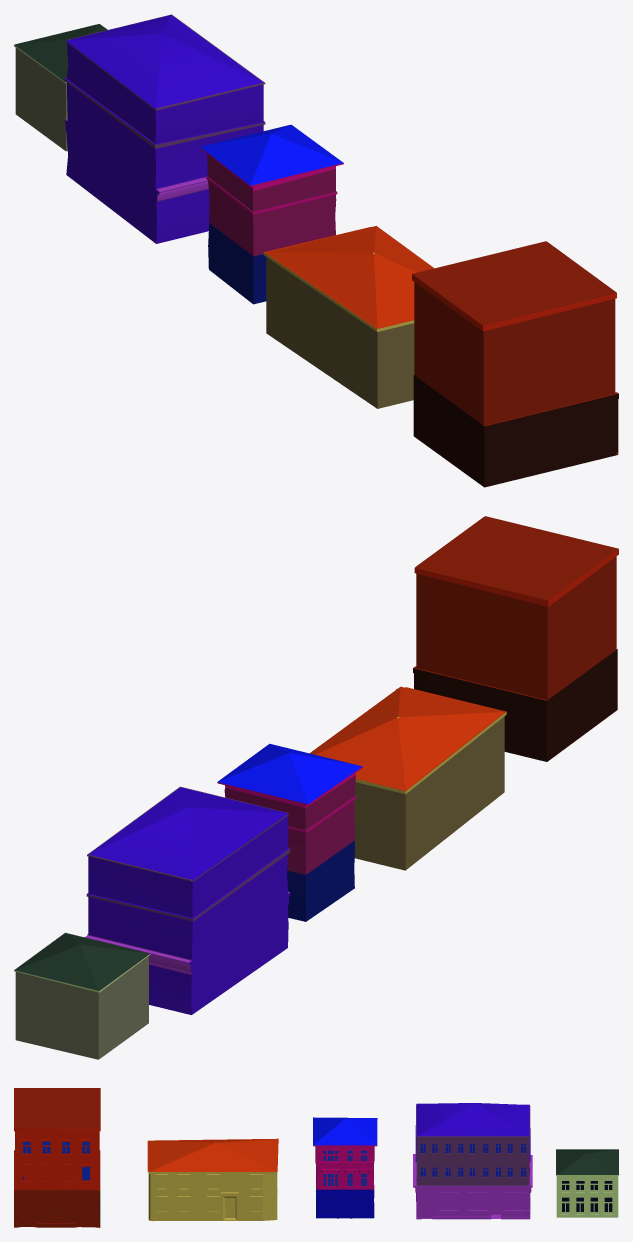
File: orangeHouse.obj
3 renders of one model, top to bottom at view 1: azimuth 30°, elevation 25°; view 2: azimuth 150°, elevation 25°; view 3: azimuth 270°, elevation 25°, orthographic. The views are drawn at different scales.
Visible parts, largest first — view 1: 5.001, 4, 2, 1, 3; view 2: 5.001, 4, 2, 3, 1; view 3: 4, 5.001, 2, 1, 3.
Part boxes in pixels (<box>): 5.001: <box>412,241,618,487</box>; 4: <box>64,14,265,243</box>; 2: <box>263,226,433,408</box>; 1: <box>199,124,343,304</box>; 3: <box>14,24,107,151</box>; 5.001: <box>413,516,618,761</box>; 4: <box>85,786,290,1014</box>; 2: <box>309,686,506,870</box>; 3: <box>14,932,150,1059</box>; 1: <box>217,743,362,921</box>; 4: <box>413,1103,532,1219</box>; 5.001: <box>14,1088,100,1227</box>; 2: <box>147,1138,278,1221</box>; 1: <box>313,1117,377,1218</box>; 3: <box>556,1149,618,1217</box>.
Bounding box in the file's own units: 1.82 × 2.07 × 11.12.
